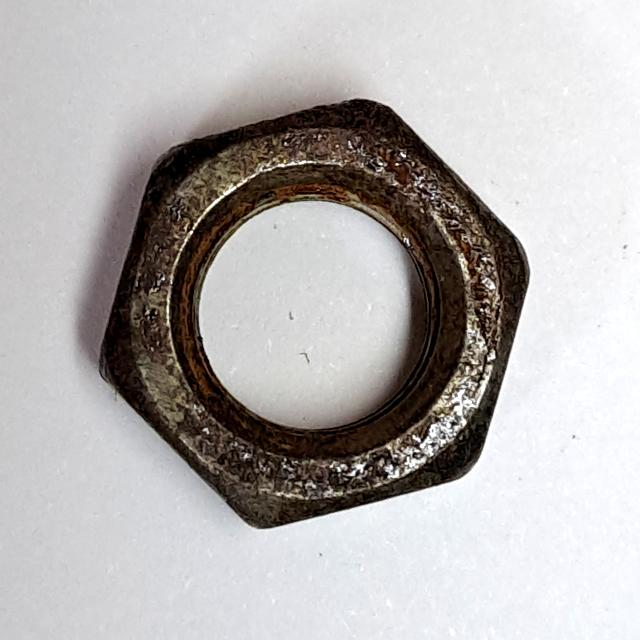Rust: (87, 91, 539, 539)
